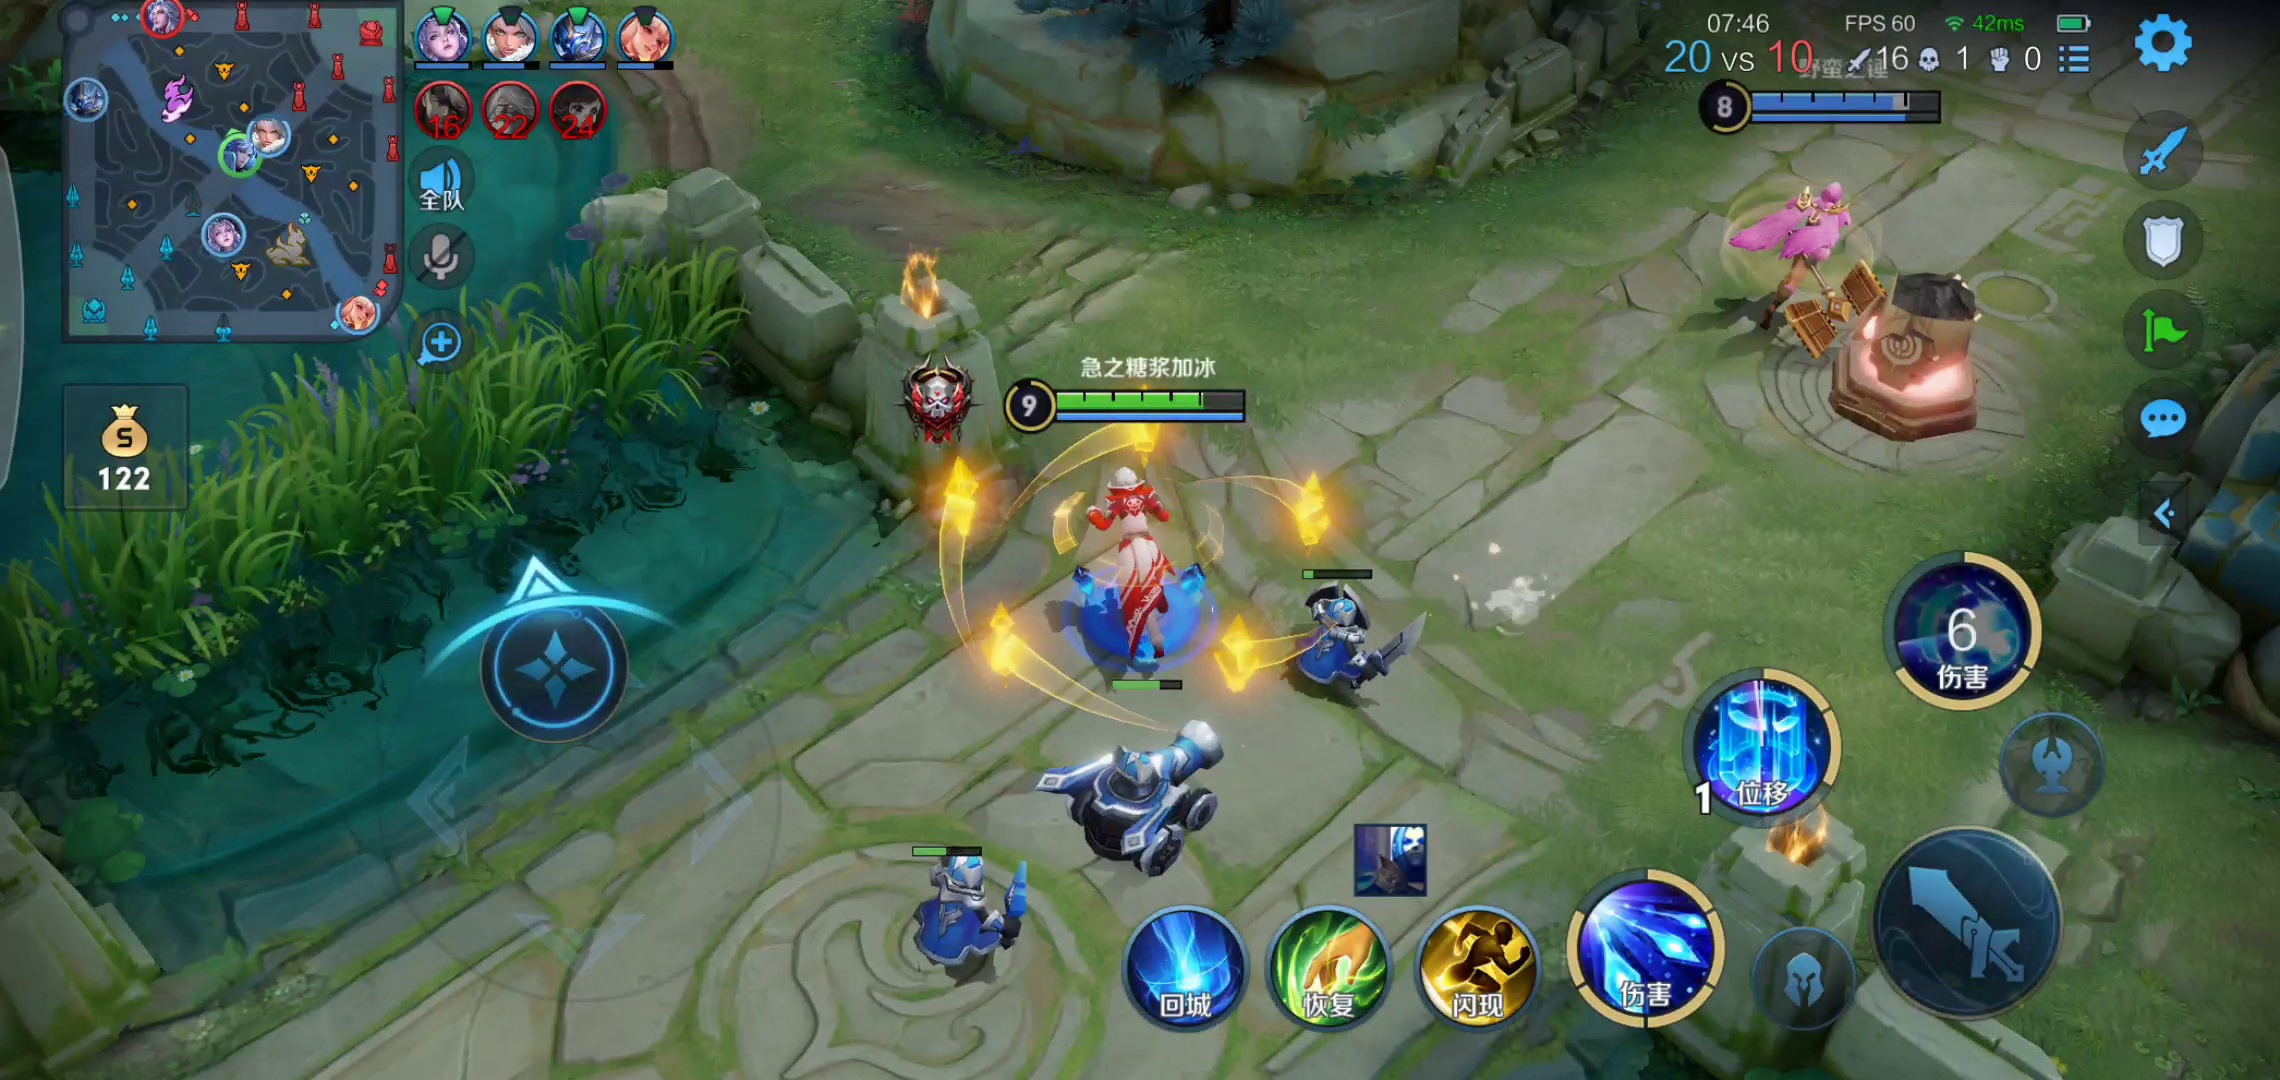grass: (20, 273, 744, 702)
hero: (1061, 472, 1219, 664), (1726, 172, 1857, 344)
soldier: (1029, 706, 1237, 863), (1281, 568, 1410, 690), (903, 859, 1040, 970)
tower: (1850, 272, 1986, 443)
